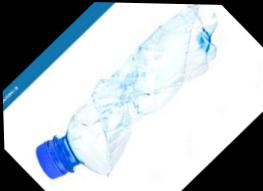plastic: (18, 0, 252, 191)
